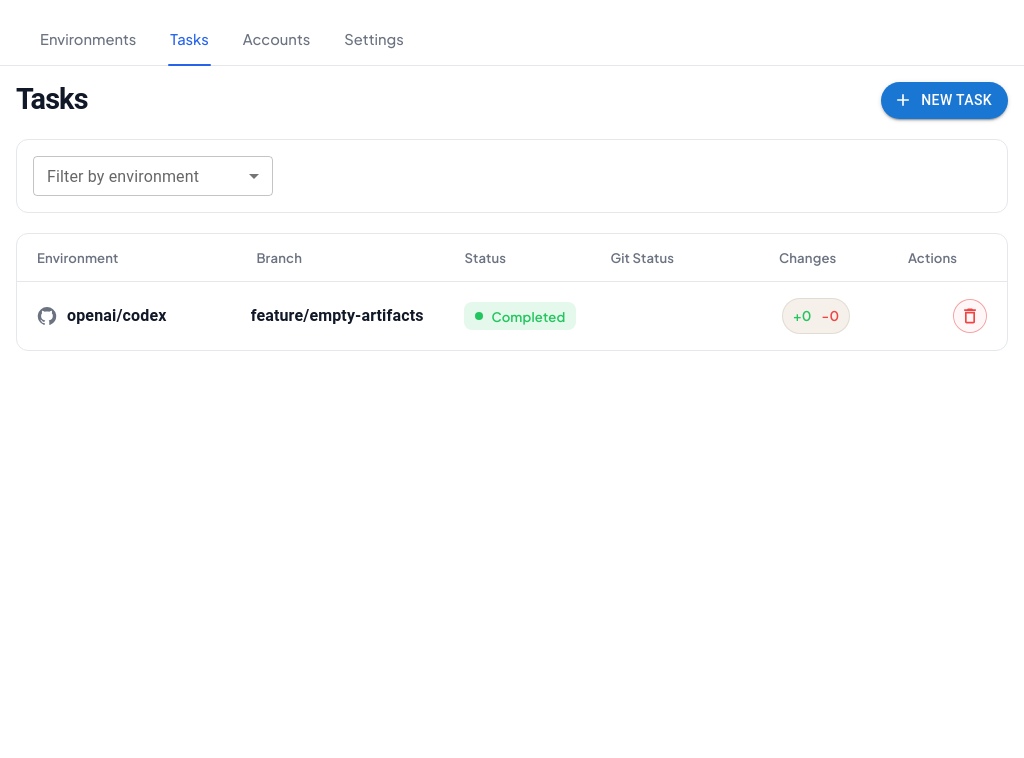
Test: omits the artifacts disclosure when a run has no artifacts
Click the text "feature/empty-artifacts": click(350, 316) [251,304,448,328]
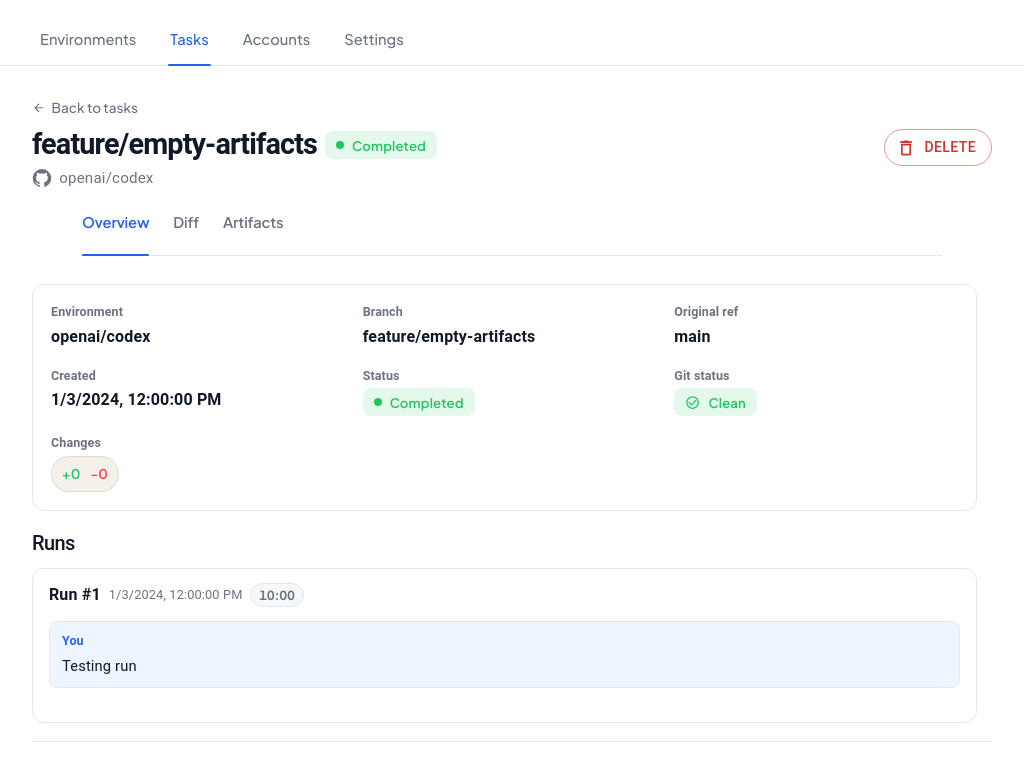
Result: the text "Testing run" is shown at [62,657,137,675]
Click the tab "Artifacts": click(253, 227) [223,211,284,243]
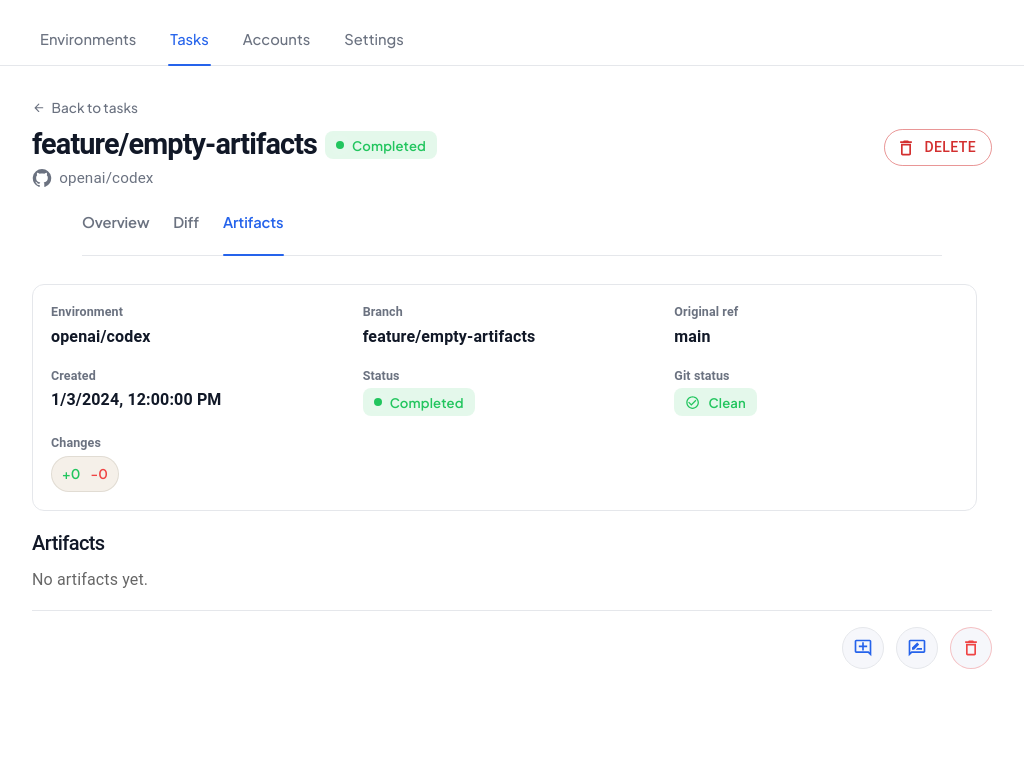
Result: the text "No artifacts yet." is shown at [32,570,148,589]
